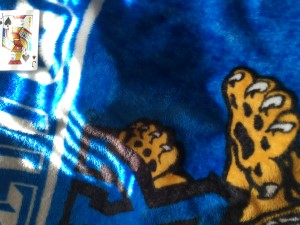JackOfSpades: (1, 6, 44, 74)
